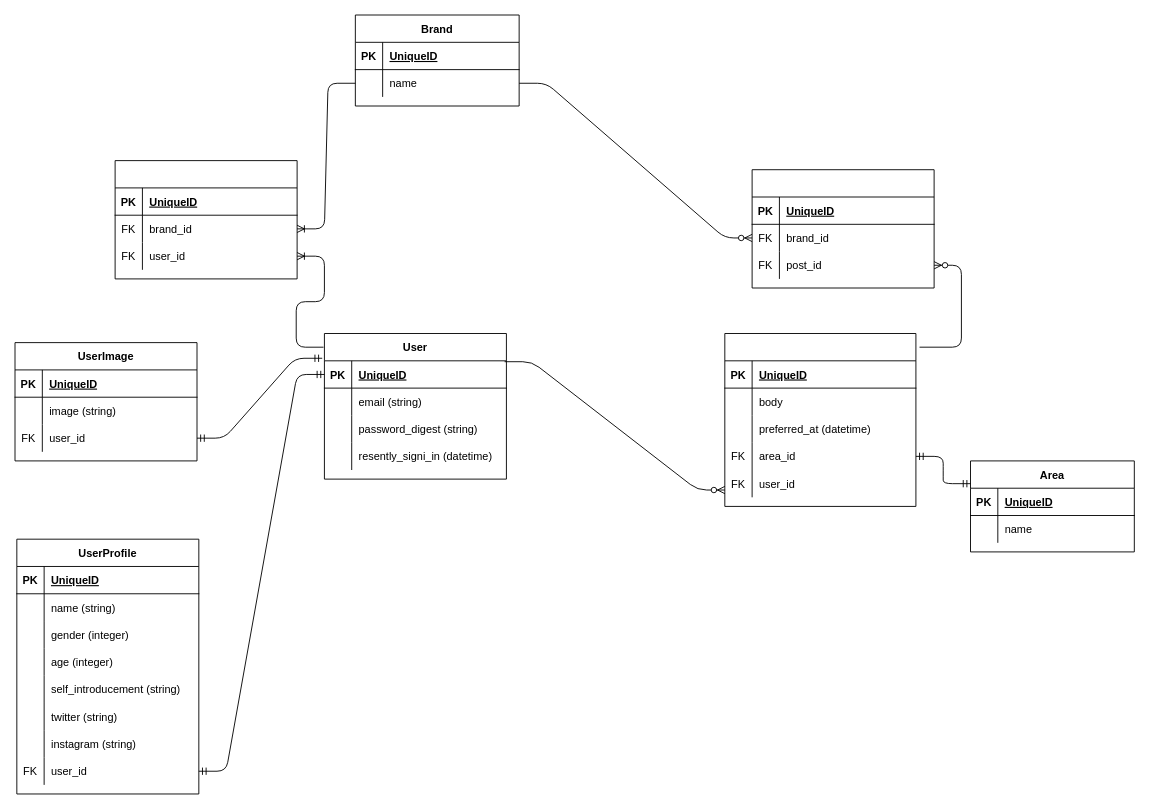
This 1149x809 diagram has some shape labels left out. The shapes that lost their labels are listed below. From the top down, each one's box as (x1, y1, x2, y2) in pixels, then its label:
(114, 160, 297, 279): UserFavoriteBrand
(751, 169, 934, 288): PostedBrand
(724, 333, 916, 506): Post
